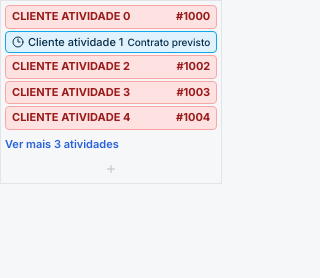
Test: atividades da célula real da agenda › expande oito atividades a partir de cinco e recolhe sem alterar os dados nem salvar
The width and height of the screenshot is (320, 278).
Click the button "Ver mais 3 atividades": (111, 144) x1=5 y1=132 x2=217 y2=156
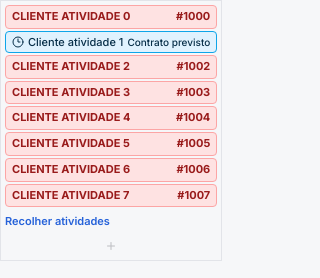
Now the button "Recolher atividades" is expanded
Click the button "Recolher atividades": (111, 222) x1=5 y1=209 x2=217 y2=234
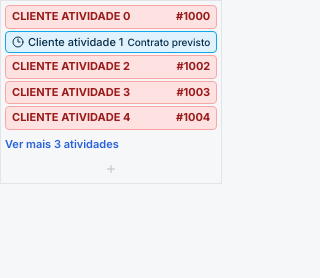
Now the button "Ver mais 3 atividades" is shown, box x1=5 y1=132 x2=217 y2=156
